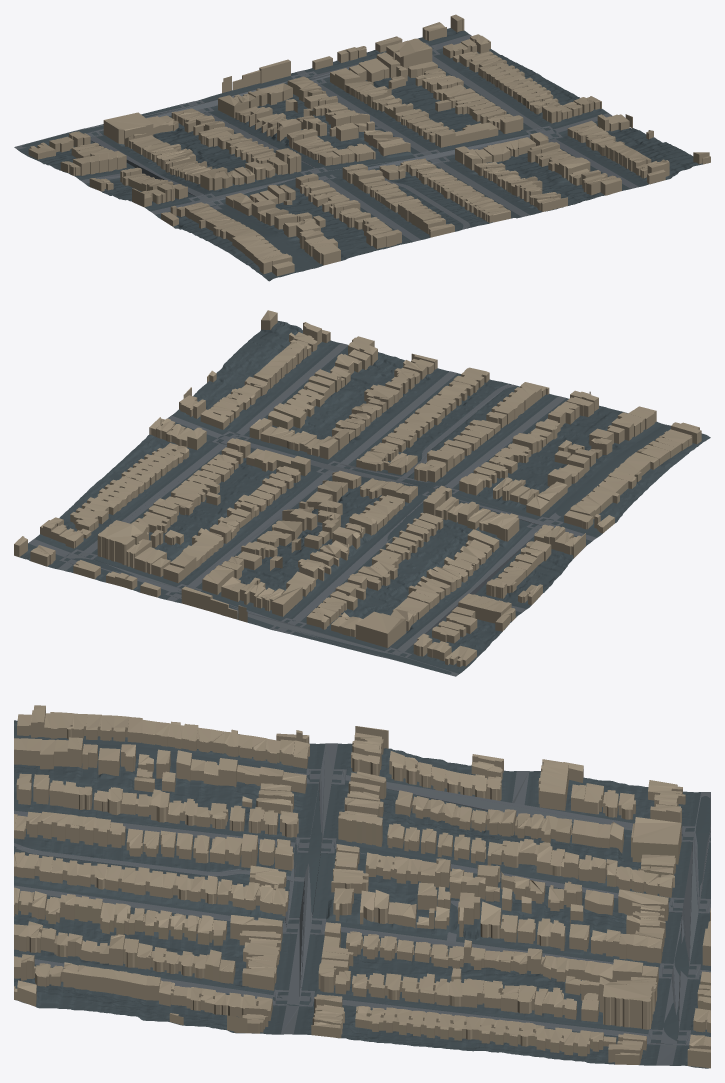
The model's file is epsg26910-1415-10888.lod0.glb.
The picture shows the model from 3 angles, top to bottom: view 1: azimuth 30°, elevation 25°; view 2: azimuth 150°, elevation 25°; view 3: azimuth 270°, elevation 25°; orthographic projection. The views are drawn at different scales.
Visible parts, largest first — view 1: epsg26910-1415-10888-lod0; view 2: epsg26910-1415-10888-lod0; view 3: epsg26910-1415-10888-lod0.
Part boxes in pixels (box(x1,y1,x2,y2)): epsg26910-1415-10888-lod0: box(14, 14, 710, 281); epsg26910-1415-10888-lod0: box(14, 310, 710, 676); epsg26910-1415-10888-lod0: box(14, 705, 710, 1068).
Bounding box in the file's own units: 384 × 60.68 × 384.
